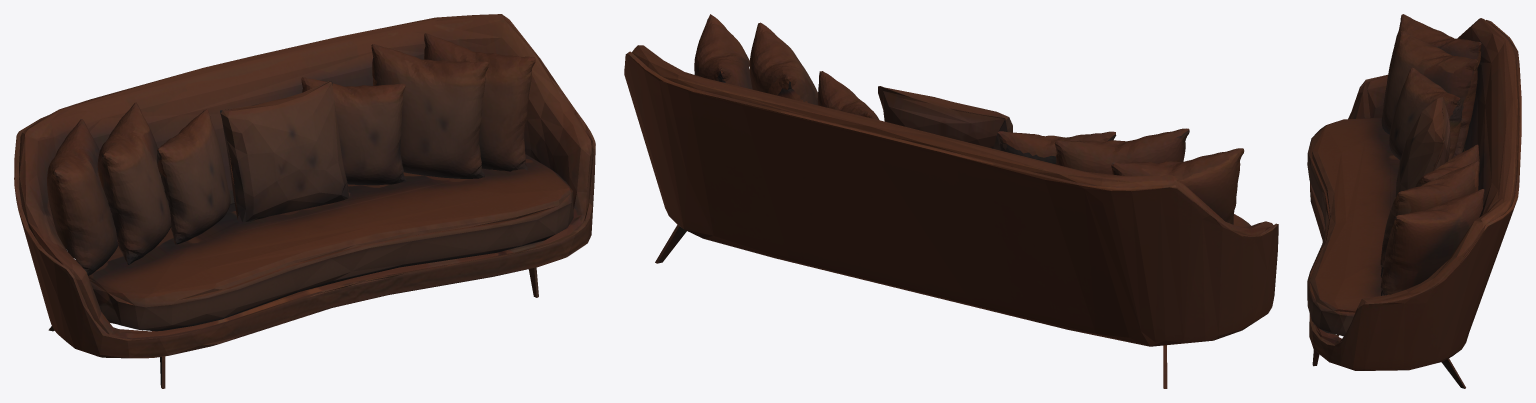
The model's file is edited_mesh.glb.
The picture shows the model from 3 angles, left to right: view 1: azimuth 30°, elevation 25°; view 2: azimuth 150°, elevation 25°; view 3: azimuth 270°, elevation 25°; orthographic projection. The views are drawn at different scales.
Parts seen in each view (by area): view 1: solid_001_wire; view 2: solid_001_wire; view 3: solid_001_wire.
Boxes of the visible parts, x1,y1,x2,y2 form: solid_001_wire: (14,14,595,388); solid_001_wire: (624,14,1278,388); solid_001_wire: (1307,14,1521,388).
Bounding box in the file's own units: 2 × 0.7102 × 0.7886.
Materials: 1 (1 with a texture image).
